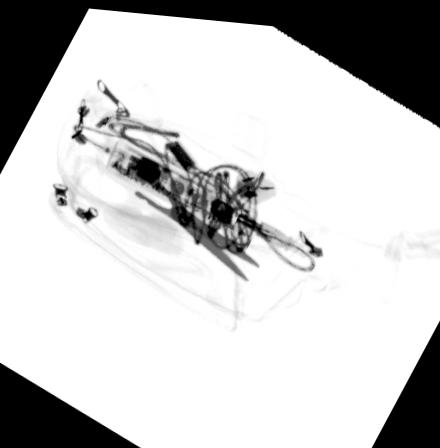Scissors: (72, 118, 261, 276)
